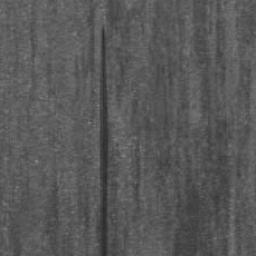Scratches: (100, 25, 110, 256)
